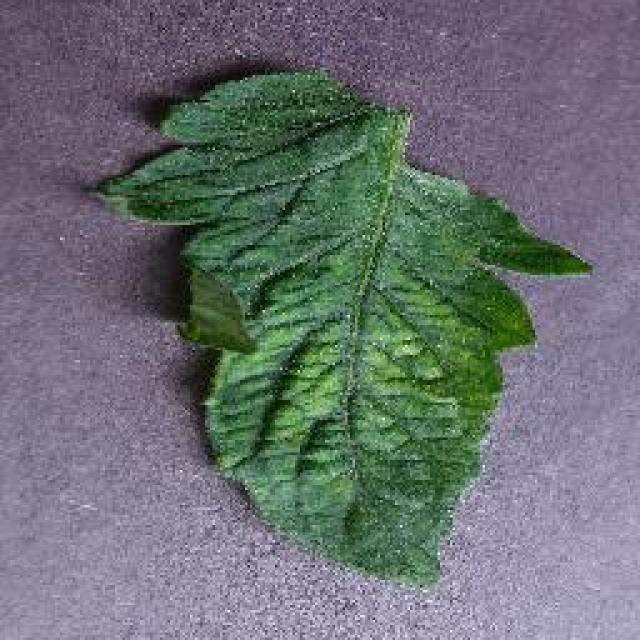Tomato spider mites leaf: (91, 68, 594, 592)
